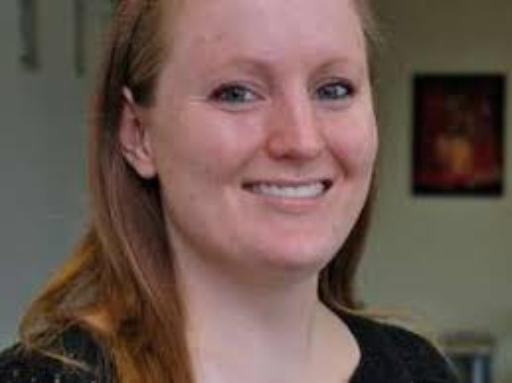left_eye: (315, 83, 360, 104)
left_lip_corner: (321, 174, 346, 190)
right_eye: (206, 86, 267, 109)
right_lip_corner: (230, 176, 256, 196)
